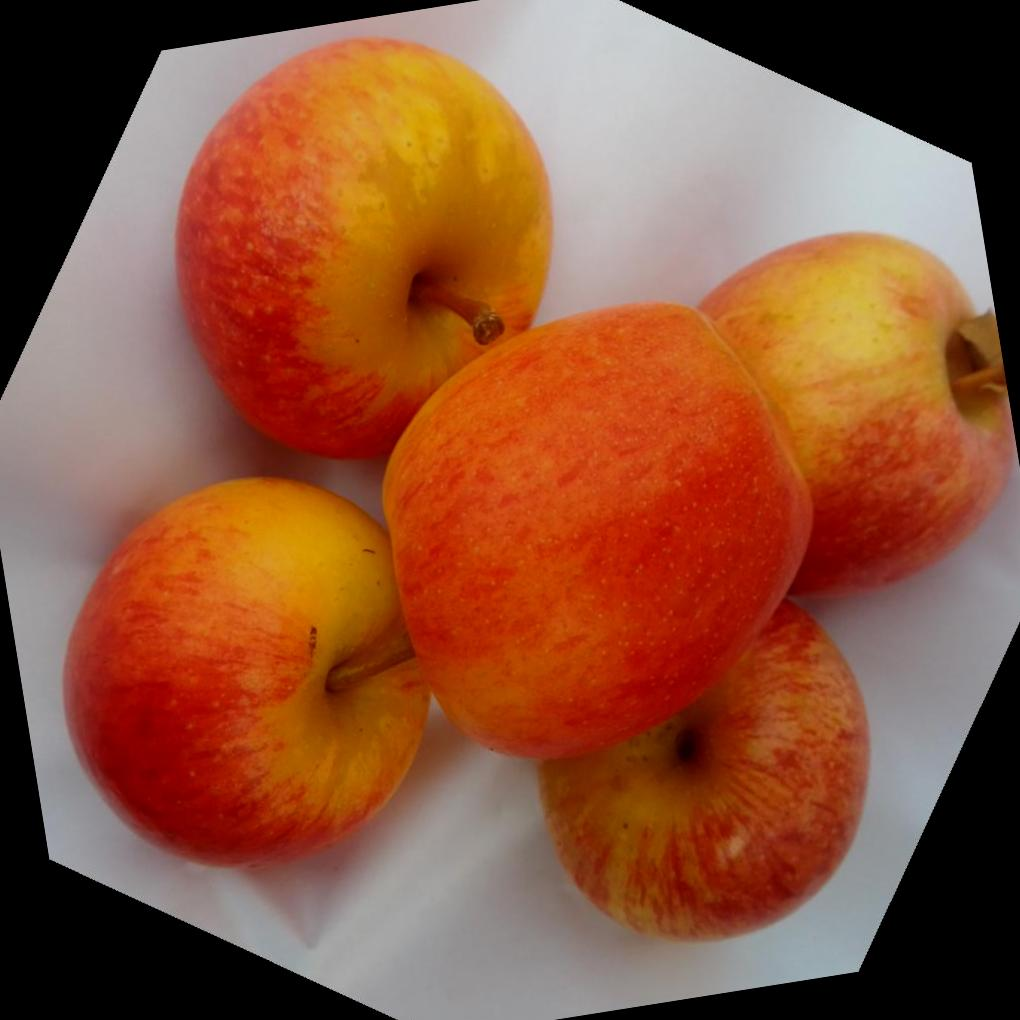FreshGuava: (65, 34, 1015, 942)
